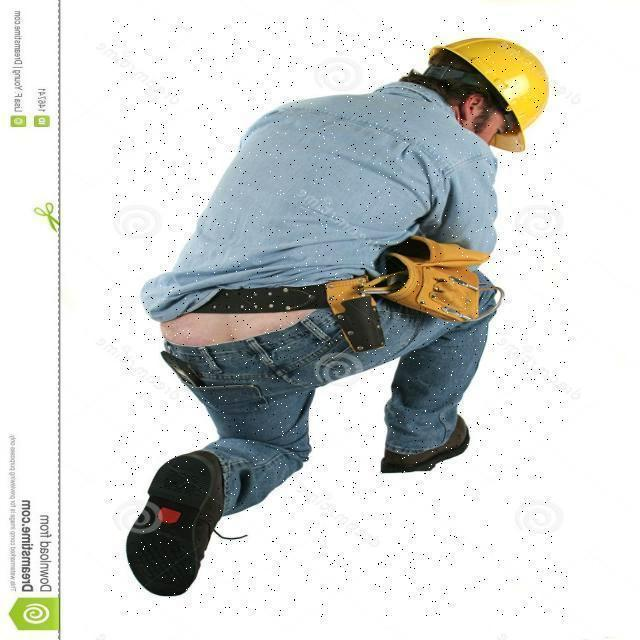10: (126, 50, 548, 598)
2: (408, 34, 556, 158)
helmet_white: (126, 447, 230, 598), (378, 413, 471, 476)
